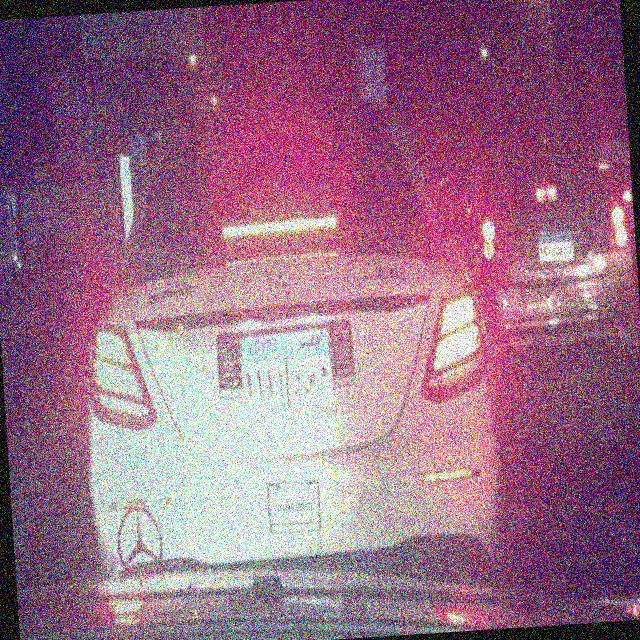License Plate: (238, 323, 336, 415)
